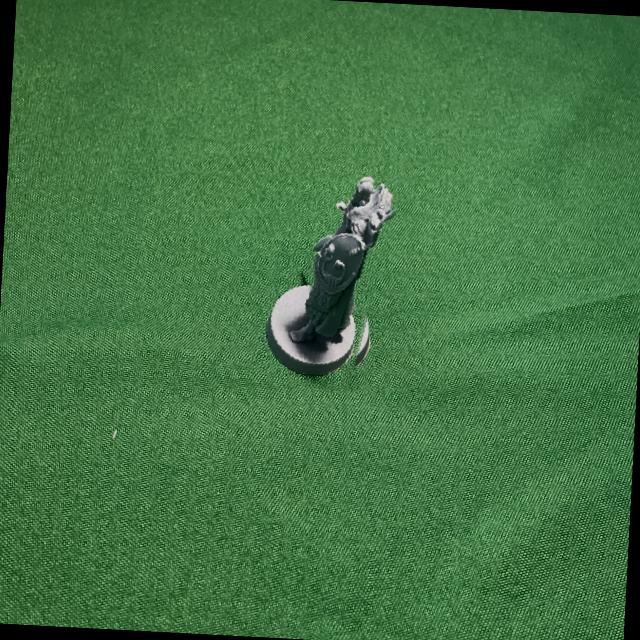isis_follower: (258, 142, 398, 394)
